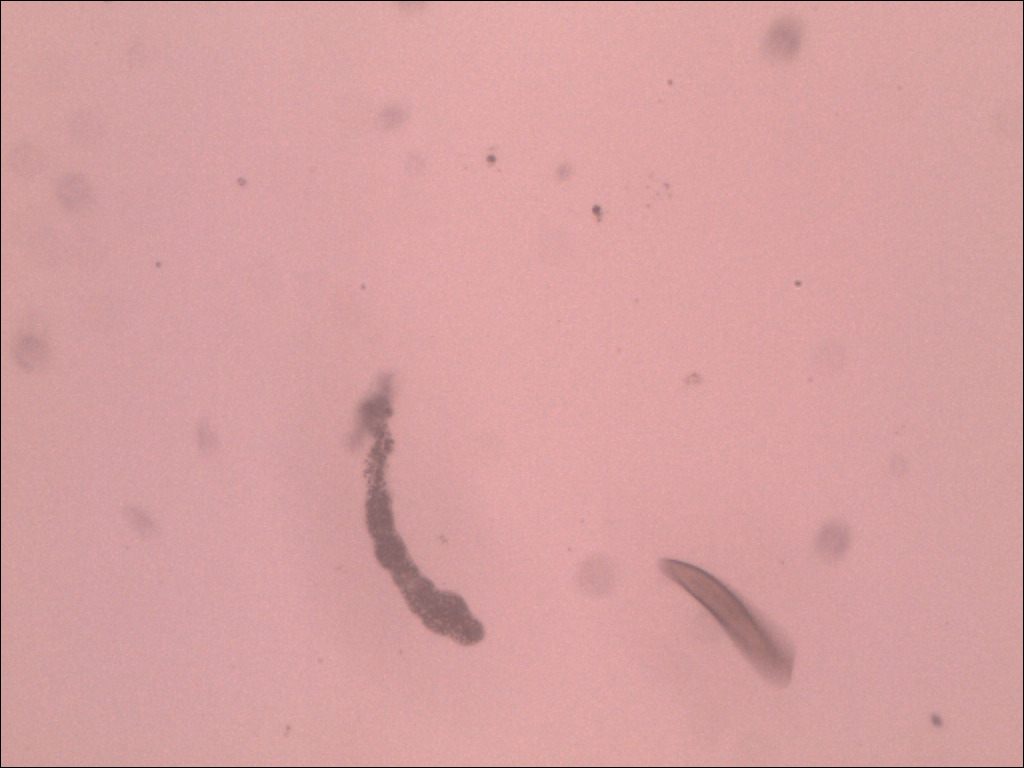amoeba: (336, 367, 503, 663)
